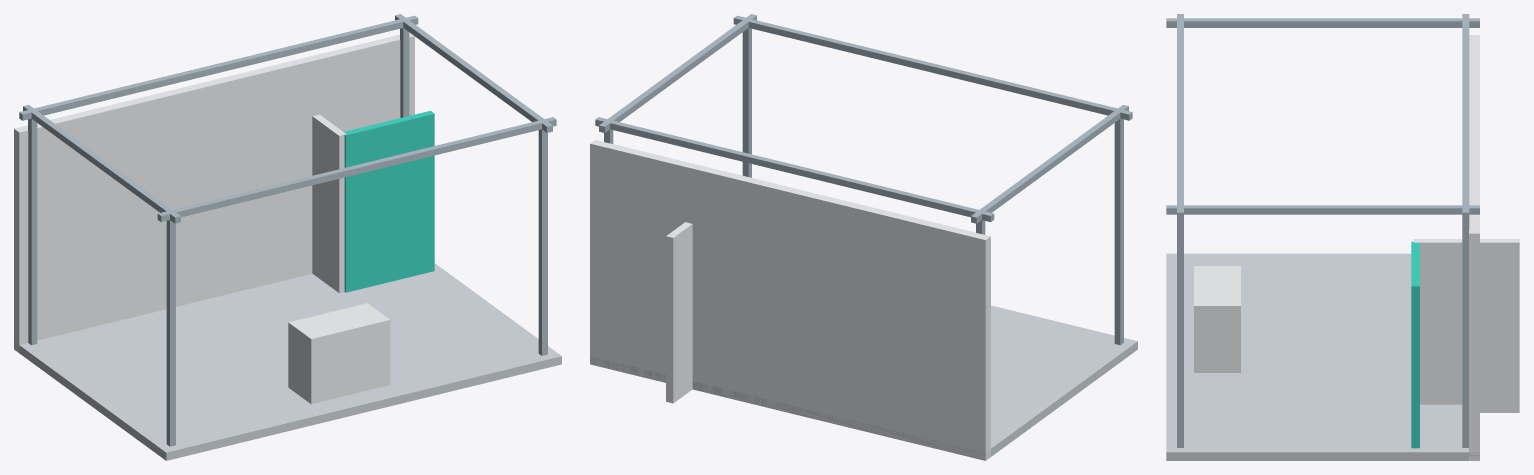
The picture shows the model from 3 angles, left to right: view 1: azimuth 30°, elevation 25°; view 2: azimuth 150°, elevation 25°; view 3: azimuth 270°, elevation 25°; orthographic projection. The views are drawn at different scales.
Visible parts, largest first — view 1: Exhibition Booth Concept; view 2: Exhibition Booth Concept; view 3: Exhibition Booth Concept.
Boxes of the visible parts, bbox=[...] form: Exhibition Booth Concept: bbox=[14, 14, 561, 460]; Exhibition Booth Concept: bbox=[590, 14, 1137, 460]; Exhibition Booth Concept: bbox=[1166, 14, 1519, 460].
Size of the model in its own units: 6 by 3.49 by 4.51.
